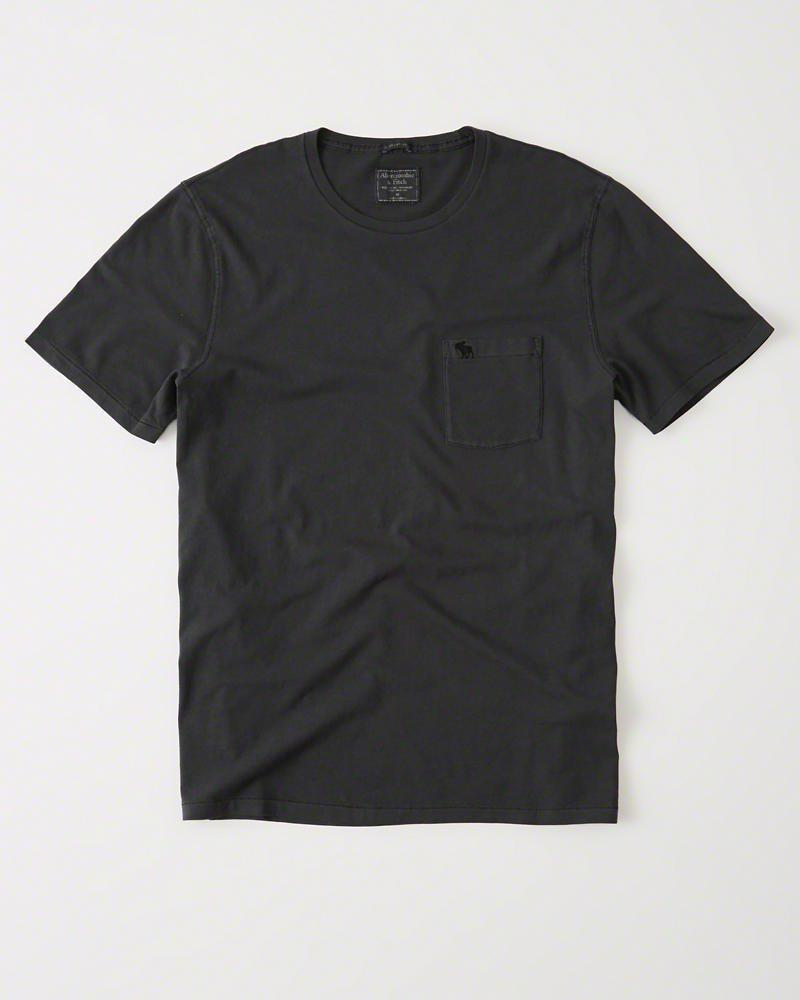teeshirt: (17, 100, 786, 868)
